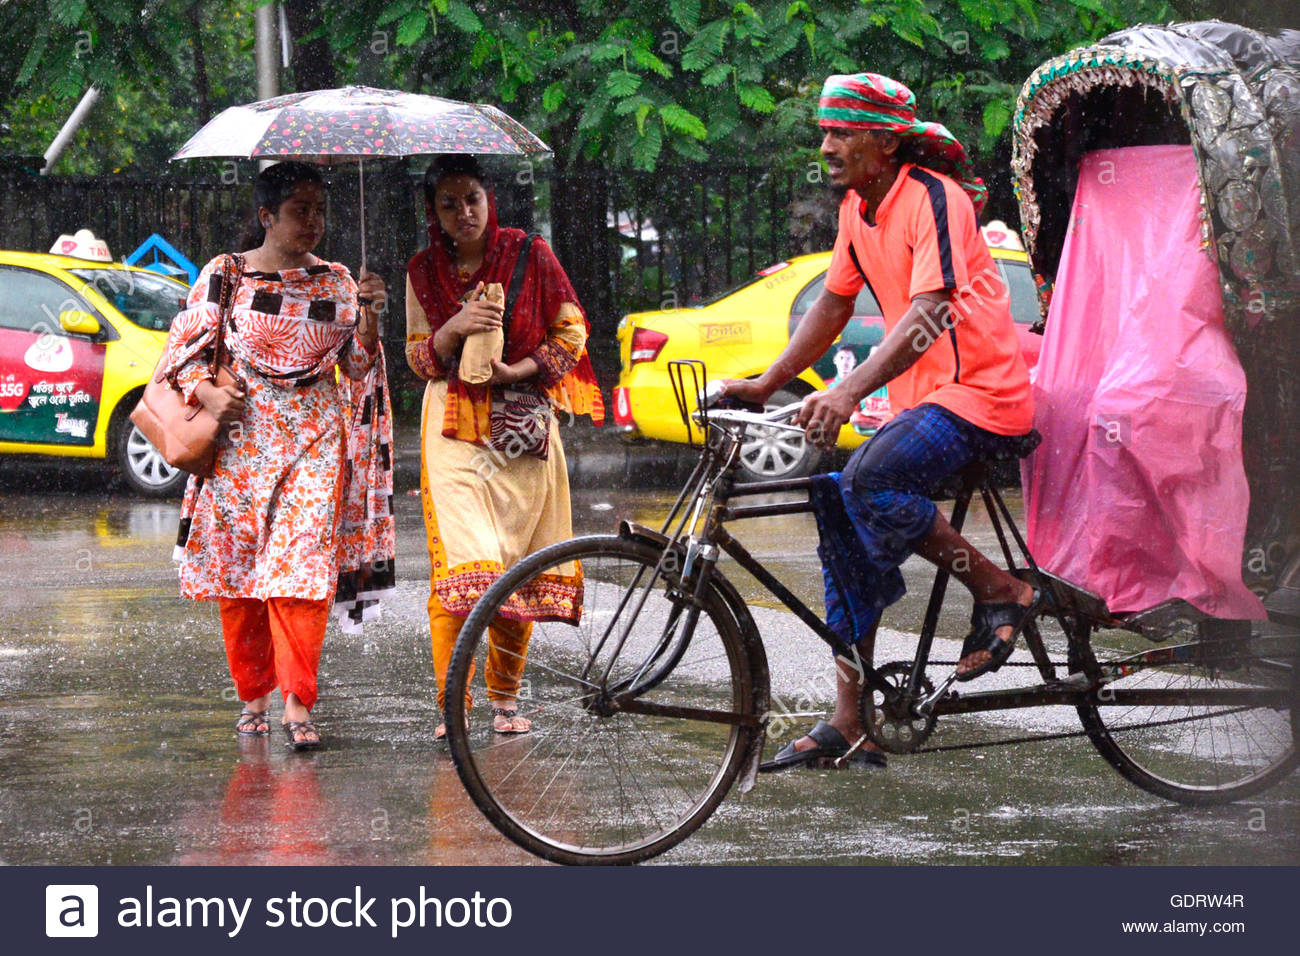Rickshaw: (467, 47, 1297, 846)
